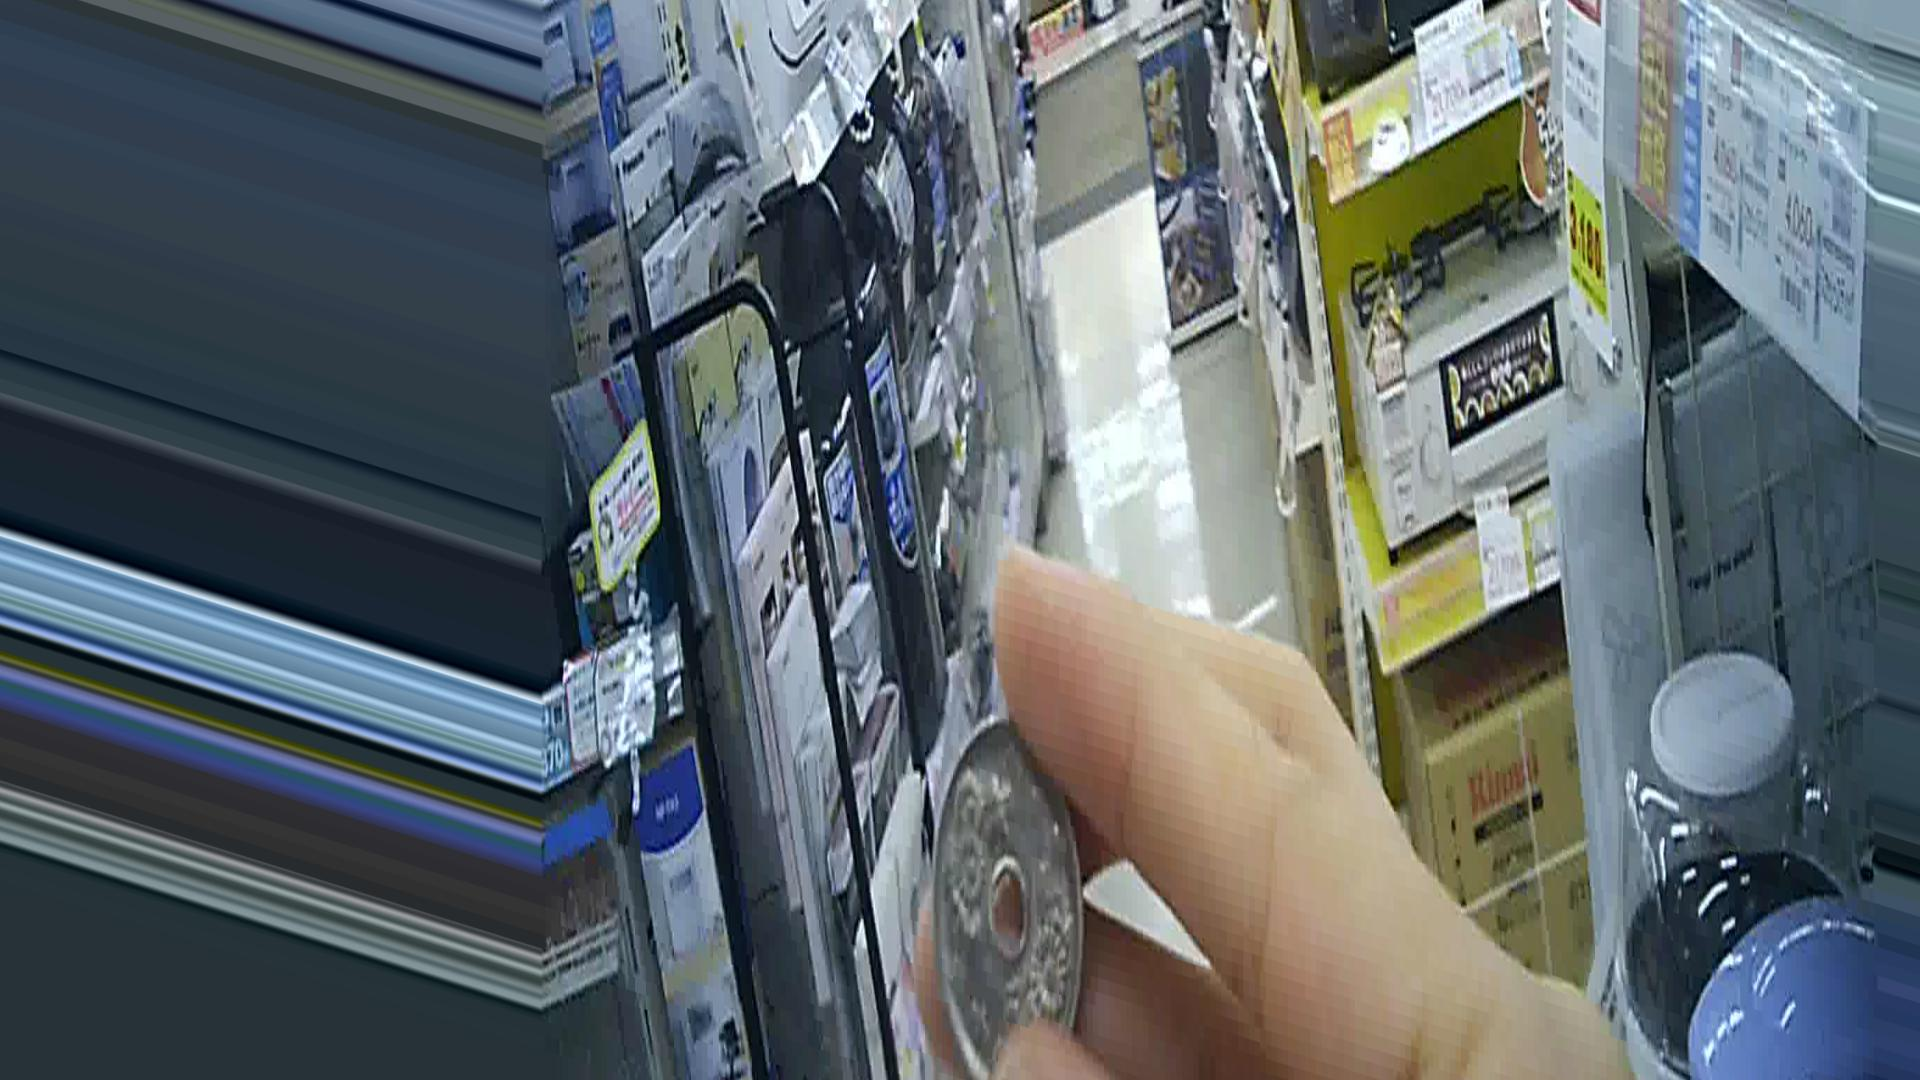50 Yen: (909, 708, 1102, 1079)
